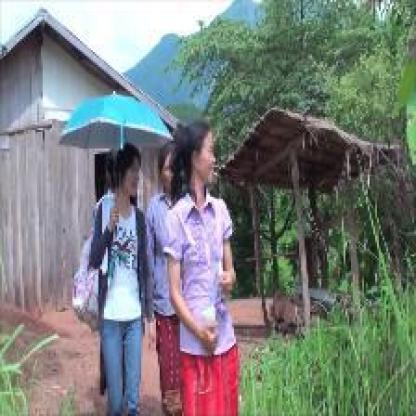other: (142, 301, 241, 406)
